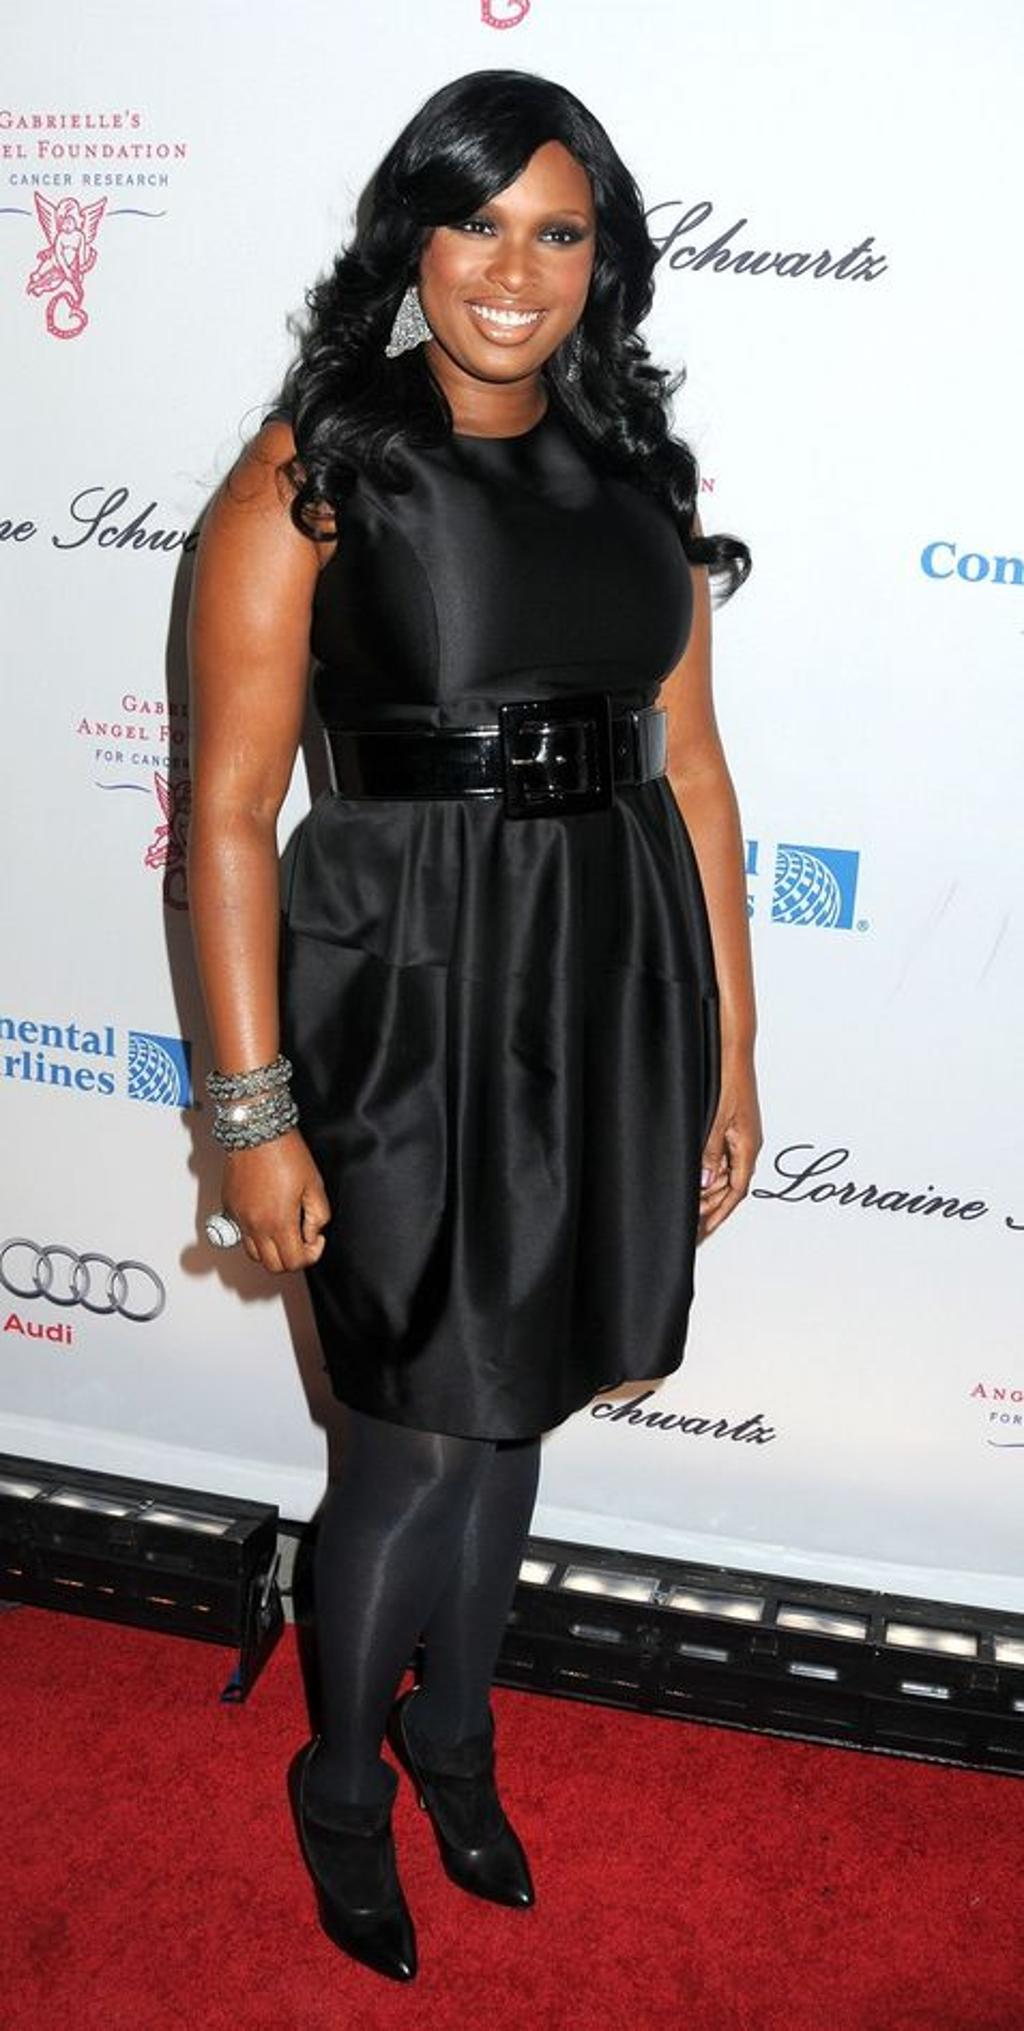face: (417, 147, 600, 381)
